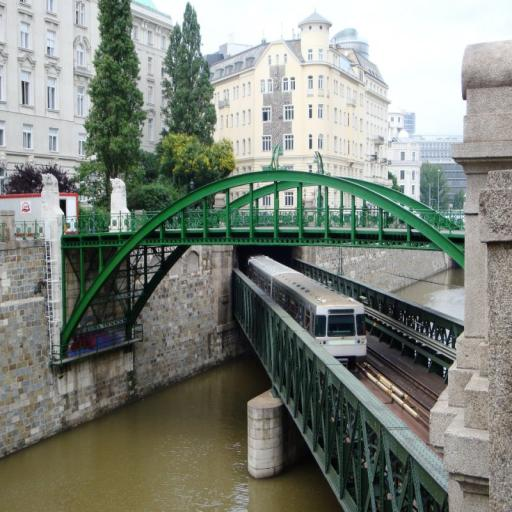Silberpfeil: (242, 252, 368, 360)
